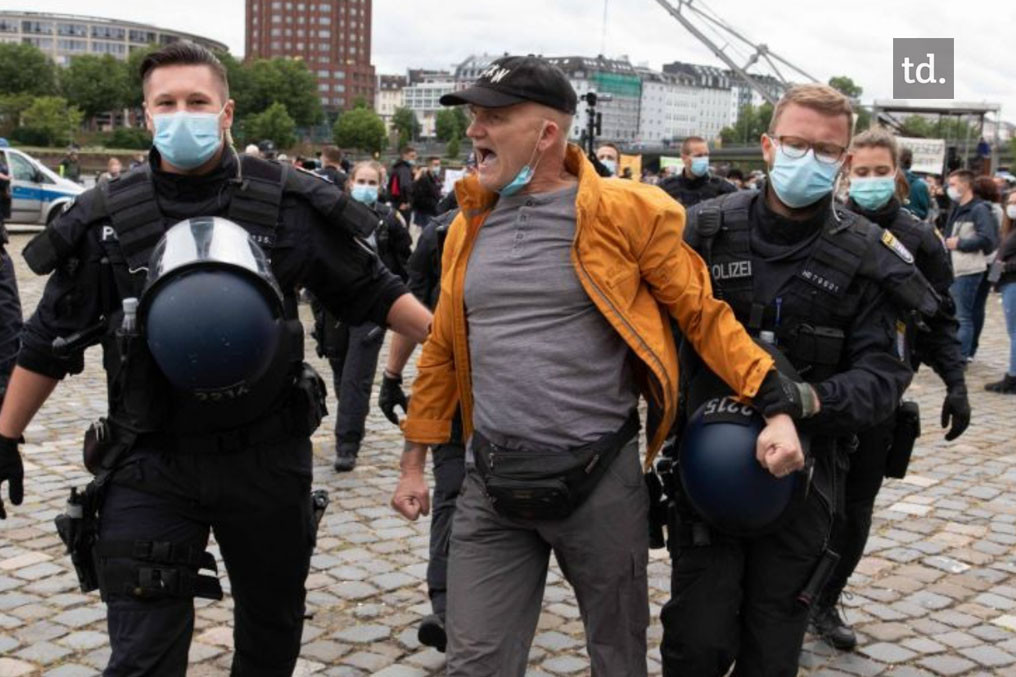with_incorrect_mask: (467, 87, 569, 202), (402, 150, 419, 165)
with_mask: (764, 105, 847, 213), (147, 69, 223, 158), (850, 150, 892, 206), (351, 165, 382, 205), (684, 138, 707, 176), (597, 147, 622, 175), (947, 178, 964, 201), (428, 158, 443, 178), (1007, 193, 1016, 212)
